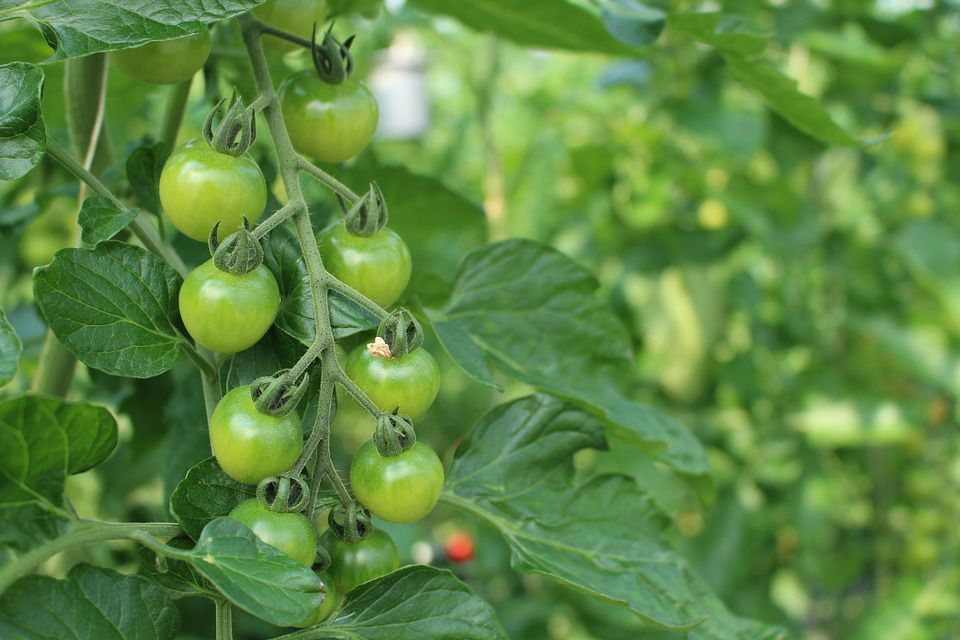stems: (325, 270, 407, 346), (296, 153, 370, 230), (336, 366, 393, 440), (277, 419, 317, 505), (265, 339, 317, 405), (260, 21, 332, 67), (232, 202, 289, 259), (326, 457, 361, 533), (219, 94, 267, 148)
tomato: (158, 137, 269, 244), (276, 67, 380, 165), (179, 256, 281, 353), (209, 383, 305, 484), (313, 220, 411, 314), (345, 433, 449, 521), (225, 498, 320, 585), (343, 337, 441, 419), (322, 523, 399, 596)
